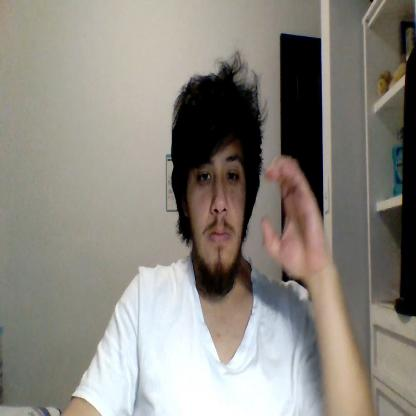C: (262, 155, 332, 277)
